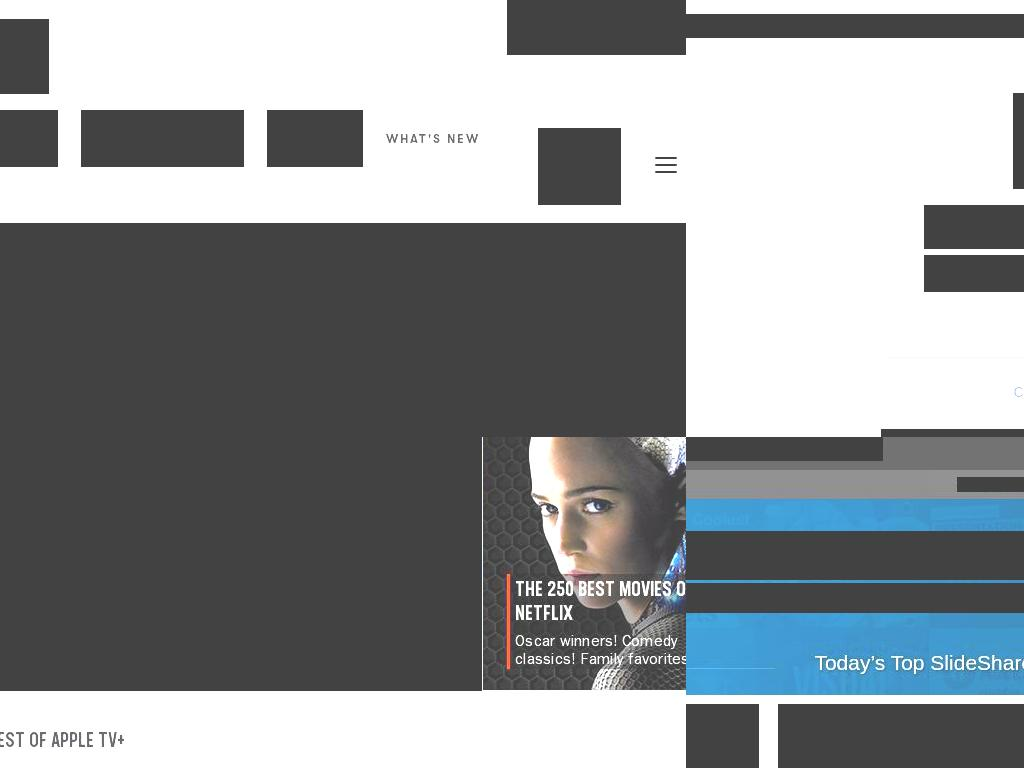button: (0, 437, 482, 691), (483, 437, 686, 691), (778, 704, 1024, 768), (507, 0, 686, 55), (81, 110, 244, 167), (637, 110, 686, 223), (267, 110, 363, 167), (386, 110, 481, 167), (0, 110, 58, 167), (850, 437, 883, 460)
field: (686, 437, 883, 461), (924, 205, 1024, 249), (924, 255, 1024, 292)
heading: (0, 729, 686, 754), (686, 531, 1024, 580), (686, 583, 1024, 613), (515, 578, 686, 627), (686, 14, 1024, 38), (814, 650, 1024, 674), (61, 580, 245, 601), (0, 580, 62, 601)
image: (0, 223, 686, 437), (653, 152, 678, 177), (655, 19, 670, 34), (107, 673, 116, 682), (134, 673, 143, 682), (162, 673, 171, 682), (189, 673, 198, 682), (216, 673, 225, 682), (243, 673, 252, 682), (271, 673, 280, 682), (298, 673, 307, 682)
link: (0, 607, 456, 644), (538, 128, 621, 205), (515, 631, 686, 668), (957, 477, 1024, 492)
text: (0, 437, 482, 691), (483, 437, 686, 691), (531, 1, 603, 52), (602, 19, 646, 34)
